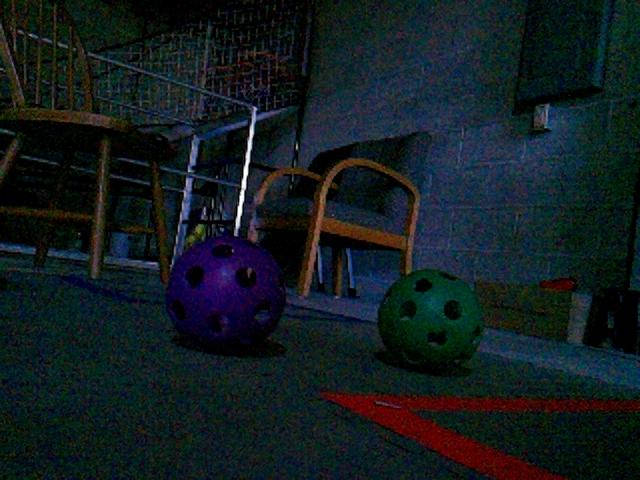Green: (375, 265, 487, 372)
Purple: (162, 231, 288, 352)
